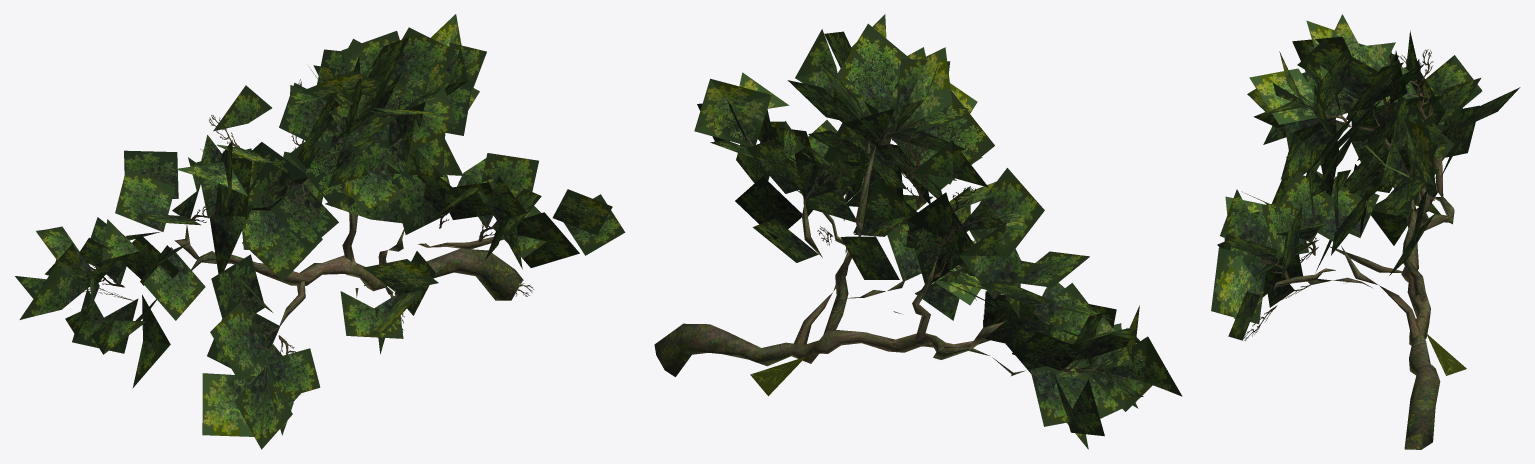
File: d_sd_shu03d_zw.FBX
The picture shows the model from 3 angles, left to right: view 1: azimuth 30°, elevation 25°; view 2: azimuth 150°, elevation 25°; view 3: azimuth 270°, elevation 25°; orthographic projection. The views are drawn at different scales.
Parts seen in each view (by area): view 1: d_sd_shu03d_zw_B05, d_sd_shu03d_zw_A, d_sd_shu03d_zw_B02; view 2: d_sd_shu03d_zw_B05, d_sd_shu03d_zw_A, d_sd_shu03d_zw_B02; view 3: d_sd_shu03d_zw_B05, d_sd_shu03d_zw_A, d_sd_shu03d_zw_B02.
Part boxes in pixels (x1=…): d_sd_shu03d_zw_B05: x1=15, y1=14, x2=625, y2=449; d_sd_shu03d_zw_A: x1=174, y1=212, x2=522, y2=328; d_sd_shu03d_zw_B02: x1=78, y1=79, x2=533, y2=354; d_sd_shu03d_zw_B05: x1=694, y1=14, x2=1182, y2=449; d_sd_shu03d_zw_A: x1=654, y1=140, x2=1025, y2=376; d_sd_shu03d_zw_B02: x1=766, y1=118, x2=1116, y2=378; d_sd_shu03d_zw_B05: x1=1211, y1=14, x2=1520, y2=375; d_sd_shu03d_zw_A: x1=1274, y1=116, x2=1454, y2=449; d_sd_shu03d_zw_B02: x1=1243, y1=49, x2=1433, y2=340.
Size of the model in its own units: 917 by 575 by 464.
